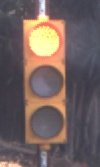Red: (18, 14, 75, 155)
